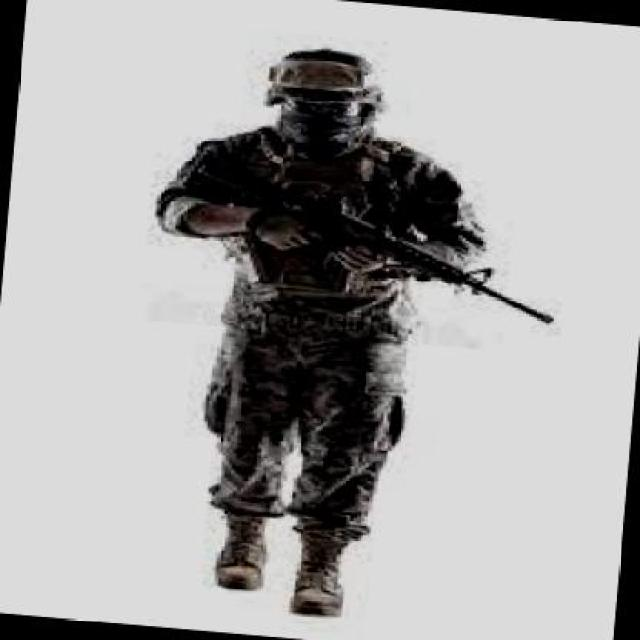MIL_Pax: (113, 26, 501, 632)
